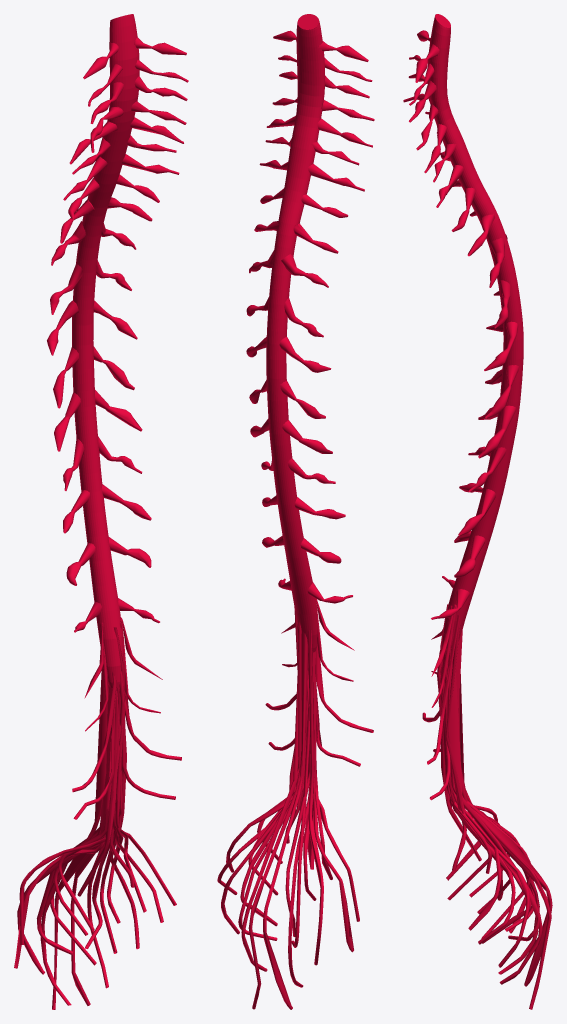
Rendered from cord.glb.
3 renders of one model, left to right at view 1: azimuth 30°, elevation 25°; view 2: azimuth 150°, elevation 25°; view 3: azimuth 270°, elevation 25°, orthographic. The views are drawn at different scales.
Parts seen in each view (by area): view 1: BezierCurve.002; view 2: BezierCurve.002; view 3: BezierCurve.002.
Boxes of the visible parts, x1=… form: BezierCurve.002: x1=14, y1=14, x2=188, y2=1009; BezierCurve.002: x1=217, y1=14, x2=374, y2=1009; BezierCurve.002: x1=403, y1=14, x2=552, y2=1009.
Bounding box in the file's own units: 78.85 × 528 × 72.18.
